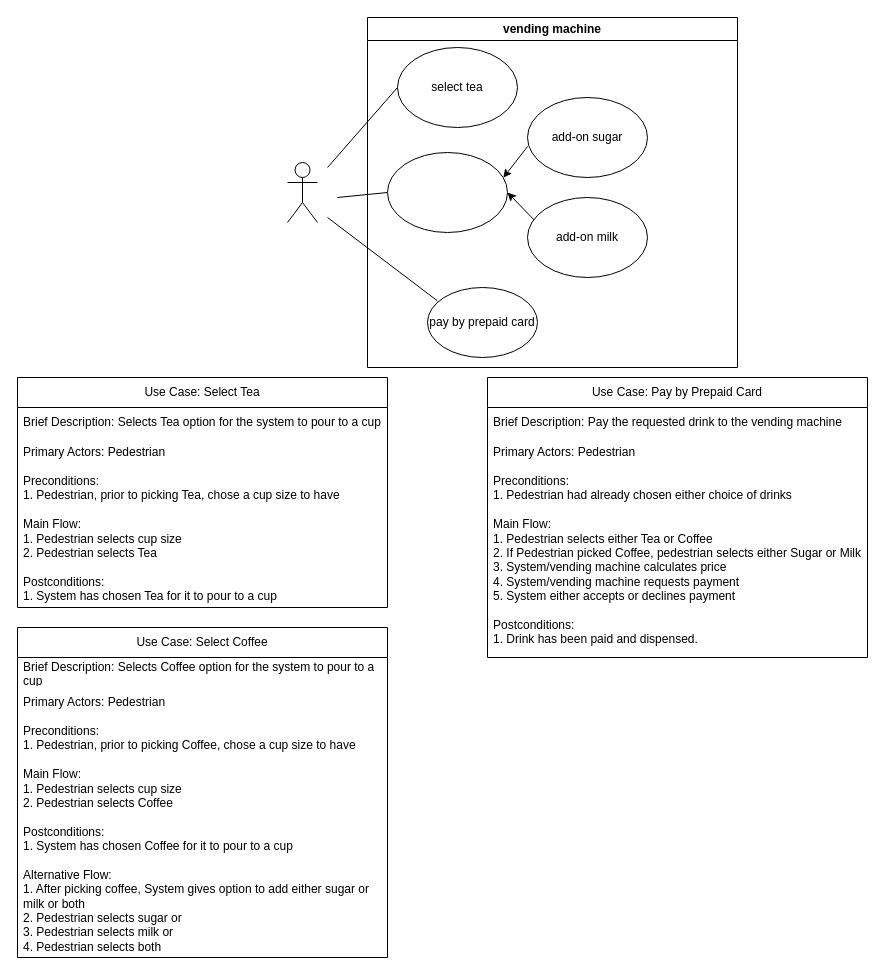
Image size: 885x978. Some labels were removed from this diagram. The shapes that lost their labels are listed below. From the top down, each one's centre as x and y in pixels, then its label:
At point 302,192: "Pedestrian".
At point 447,192: "select coffee".
